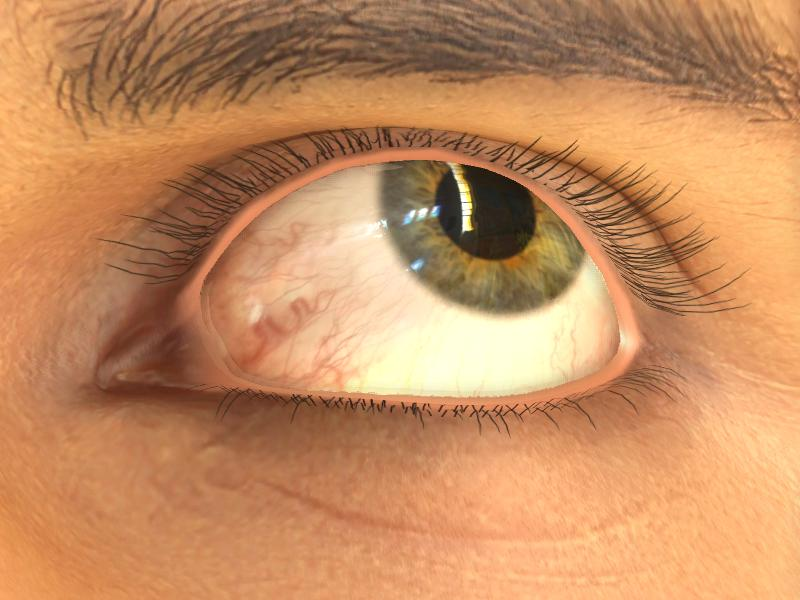eye: (379, 153, 584, 312)
